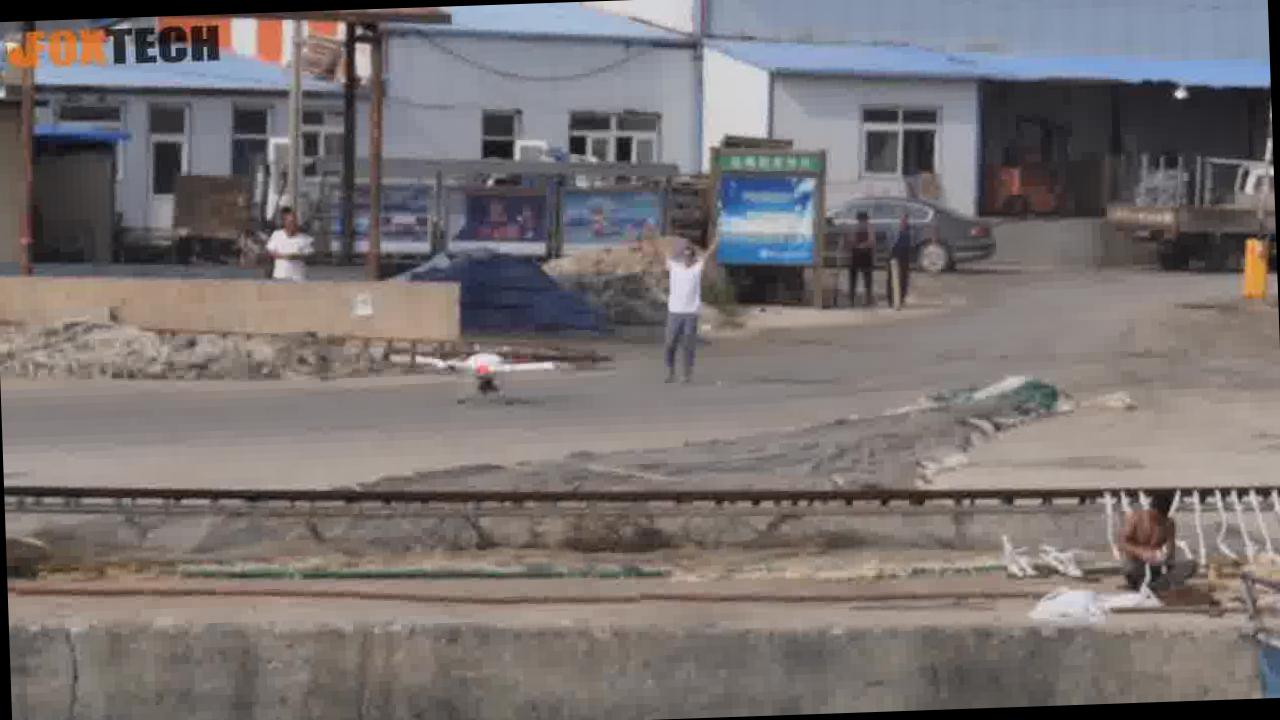drone: (409, 339, 568, 408)
